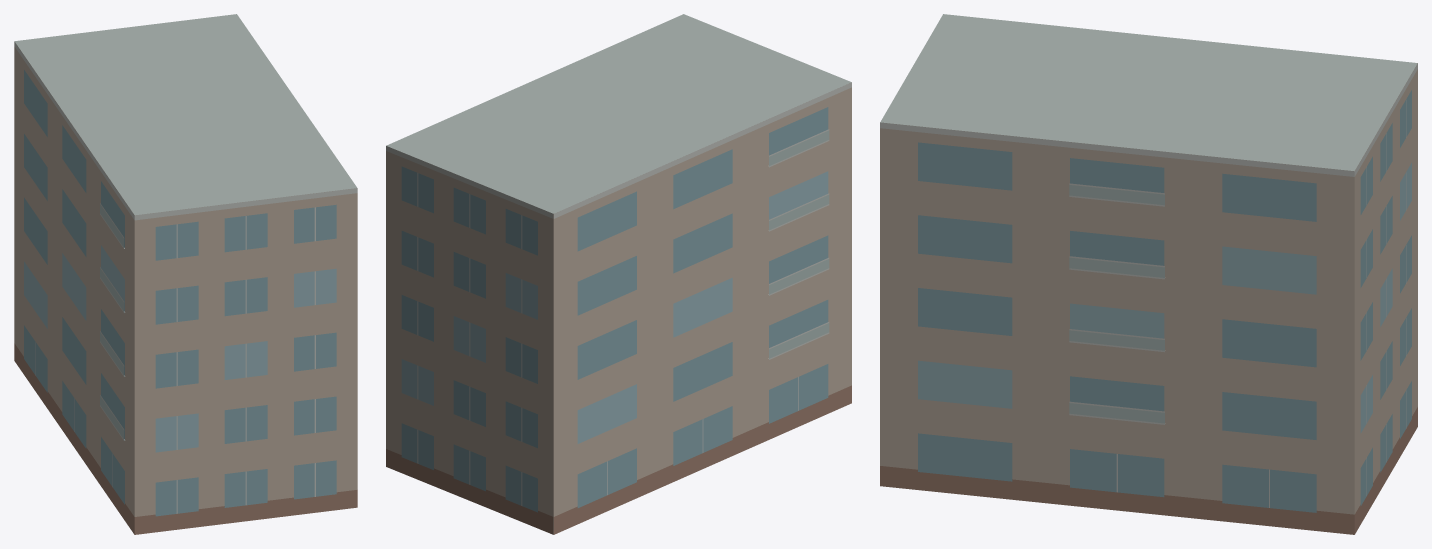
Rendered from survey-upis-32888945.glb.
3 renders of one model, left to right at view 1: azimuth 30°, elevation 25°; view 2: azimuth 150°, elevation 25°; view 3: azimuth 270°, elevation 25°, orthographic. The views are drawn at different scales.
Parts seen in each view (by area): view 1: survey-upis-32888945.tmp; view 2: survey-upis-32888945.tmp; view 3: survey-upis-32888945.tmp.
Part boxes in pixels (x1=…): survey-upis-32888945.tmp: x1=14, y1=14, x2=357, y2=534; survey-upis-32888945.tmp: x1=386, y1=14, x2=851, y2=534; survey-upis-32888945.tmp: x1=880, y1=14, x2=1417, y2=534.
Size of the model in its own units: 14.14 by 15.25 by 20.44.
